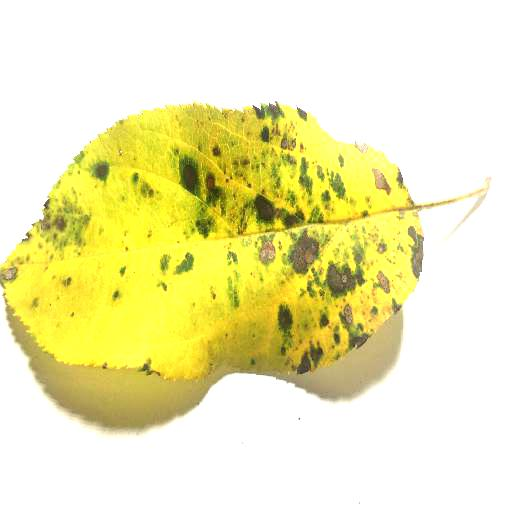Brown_Spot: (272, 124, 310, 160), (28, 206, 72, 235), (293, 240, 320, 275), (408, 230, 429, 272), (324, 266, 350, 299), (260, 242, 283, 270), (183, 163, 199, 193), (374, 166, 391, 193), (202, 169, 220, 193), (370, 274, 389, 294), (2, 265, 18, 284), (341, 306, 355, 325)
